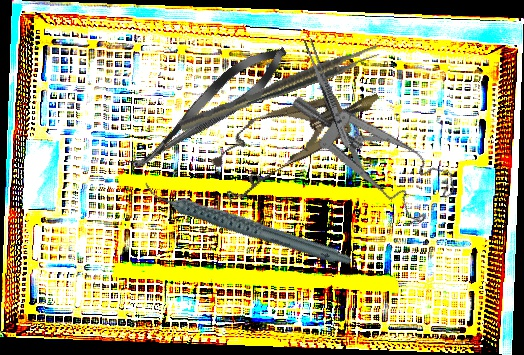Dressing Forceps: (301, 36, 354, 151)
Handpiece: (140, 142, 355, 305)
Micro Scissor: (120, 34, 297, 184)
Speculum: (288, 48, 466, 249), (201, 65, 394, 206)
Tissue Forceps: (176, 42, 382, 132)
